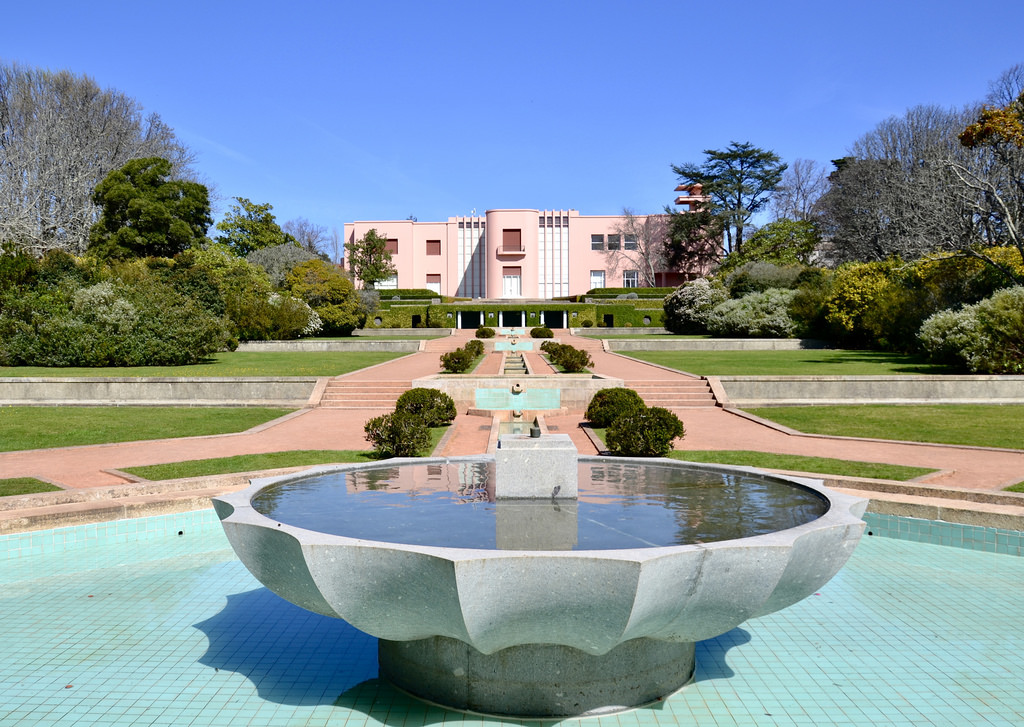serralves: (342, 173, 731, 300)
